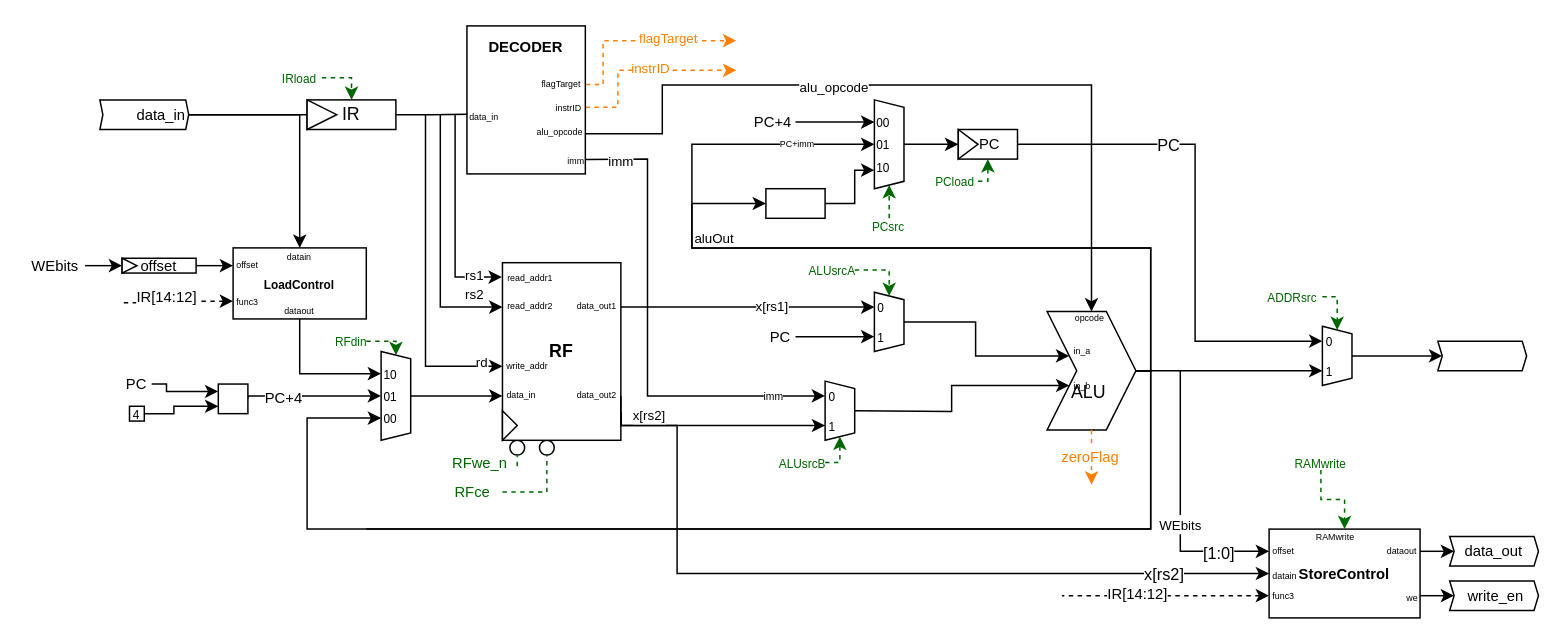
The diagram is 1564 pixels wide and 644 high, and some of its shapes have lost their labels. Each missing label, with the centre of its shape:
"&3'd3" belongs at (794,202).
"addr" belongs at (1481,355).
"inc" belongs at (232,398).
